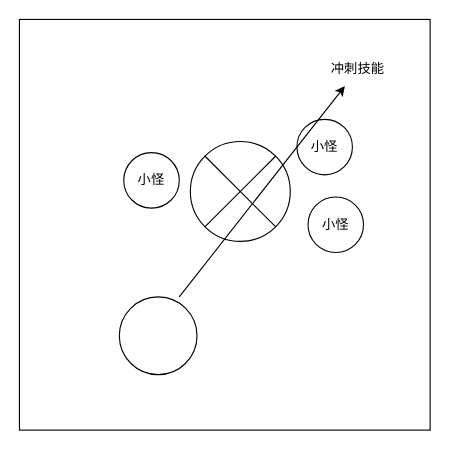
This 450x450 diagram has some shape labels left out. Here are the shapes that lost their labels. From the top down, the box of each, then its label:
(189, 140, 290, 241): Boss
(118, 296, 197, 375): 角色
